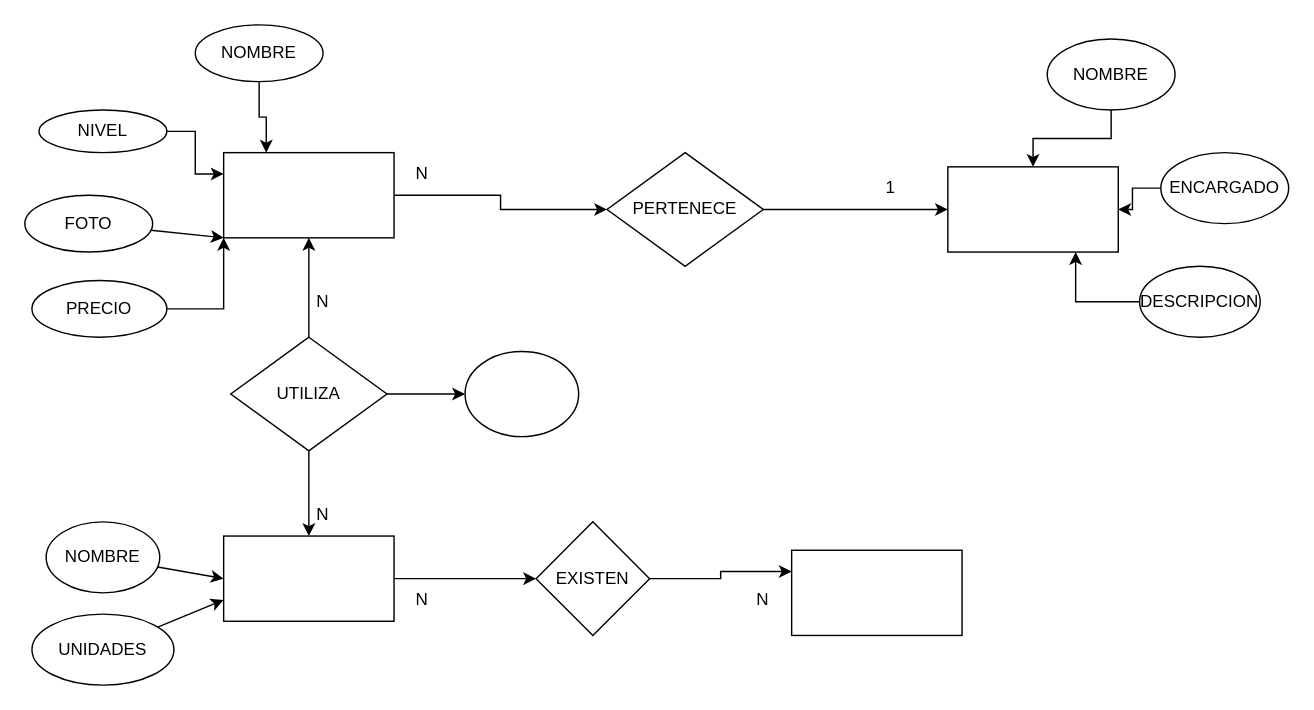
This 1314x710 diagram has some shape labels left out. The shapes that lost their labels are listed below. From the top down, each one's box as (x1, y1, x2, y2) in pixels, then its label:
(222, 151, 394, 238): PLATO
(946, 165, 1118, 252): CATEGORIA
(464, 350, 579, 437): CANTIDAD
(222, 535, 394, 621): INGREDIENTES
(790, 549, 962, 635): ALMACEN
